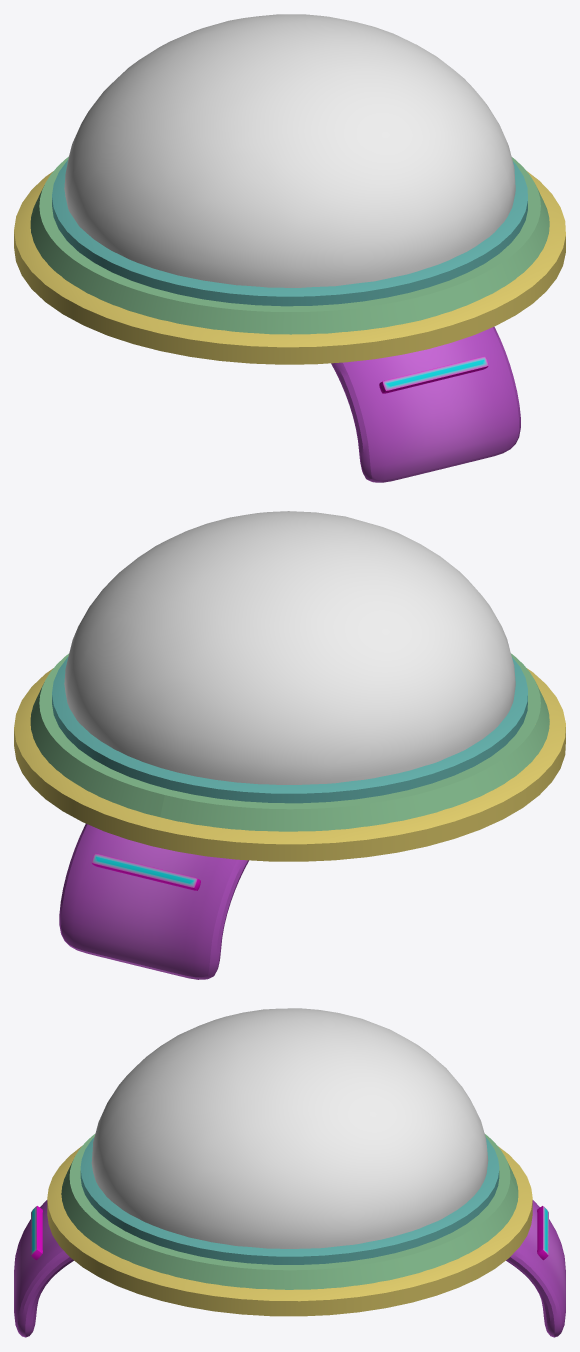
Rendered from CellAdventure_StarWatch.fbx.
The picture shows the model from 3 angles, top to bottom: view 1: azimuth 30°, elevation 25°; view 2: azimuth 150°, elevation 25°; view 3: azimuth 270°, elevation 25°; orthographic projection. The views are drawn at different scales.
Parts seen in each view (by area): view 1: StarWatch_Glass, StarWatch_Watch; view 2: StarWatch_Glass, StarWatch_Watch; view 3: StarWatch_Glass, StarWatch_Watch.
Boxes of the visible parts, box(x1,y1,x2,y2) form: StarWatch_Glass: box(64, 14, 515, 287); StarWatch_Watch: box(14, 156, 565, 482); StarWatch_Glass: box(64, 511, 515, 784); StarWatch_Watch: box(14, 653, 565, 979); StarWatch_Glass: box(91, 1008, 488, 1248); StarWatch_Watch: box(14, 1134, 565, 1337).
Size of the model in its own units: 215 by 136 by 245.
